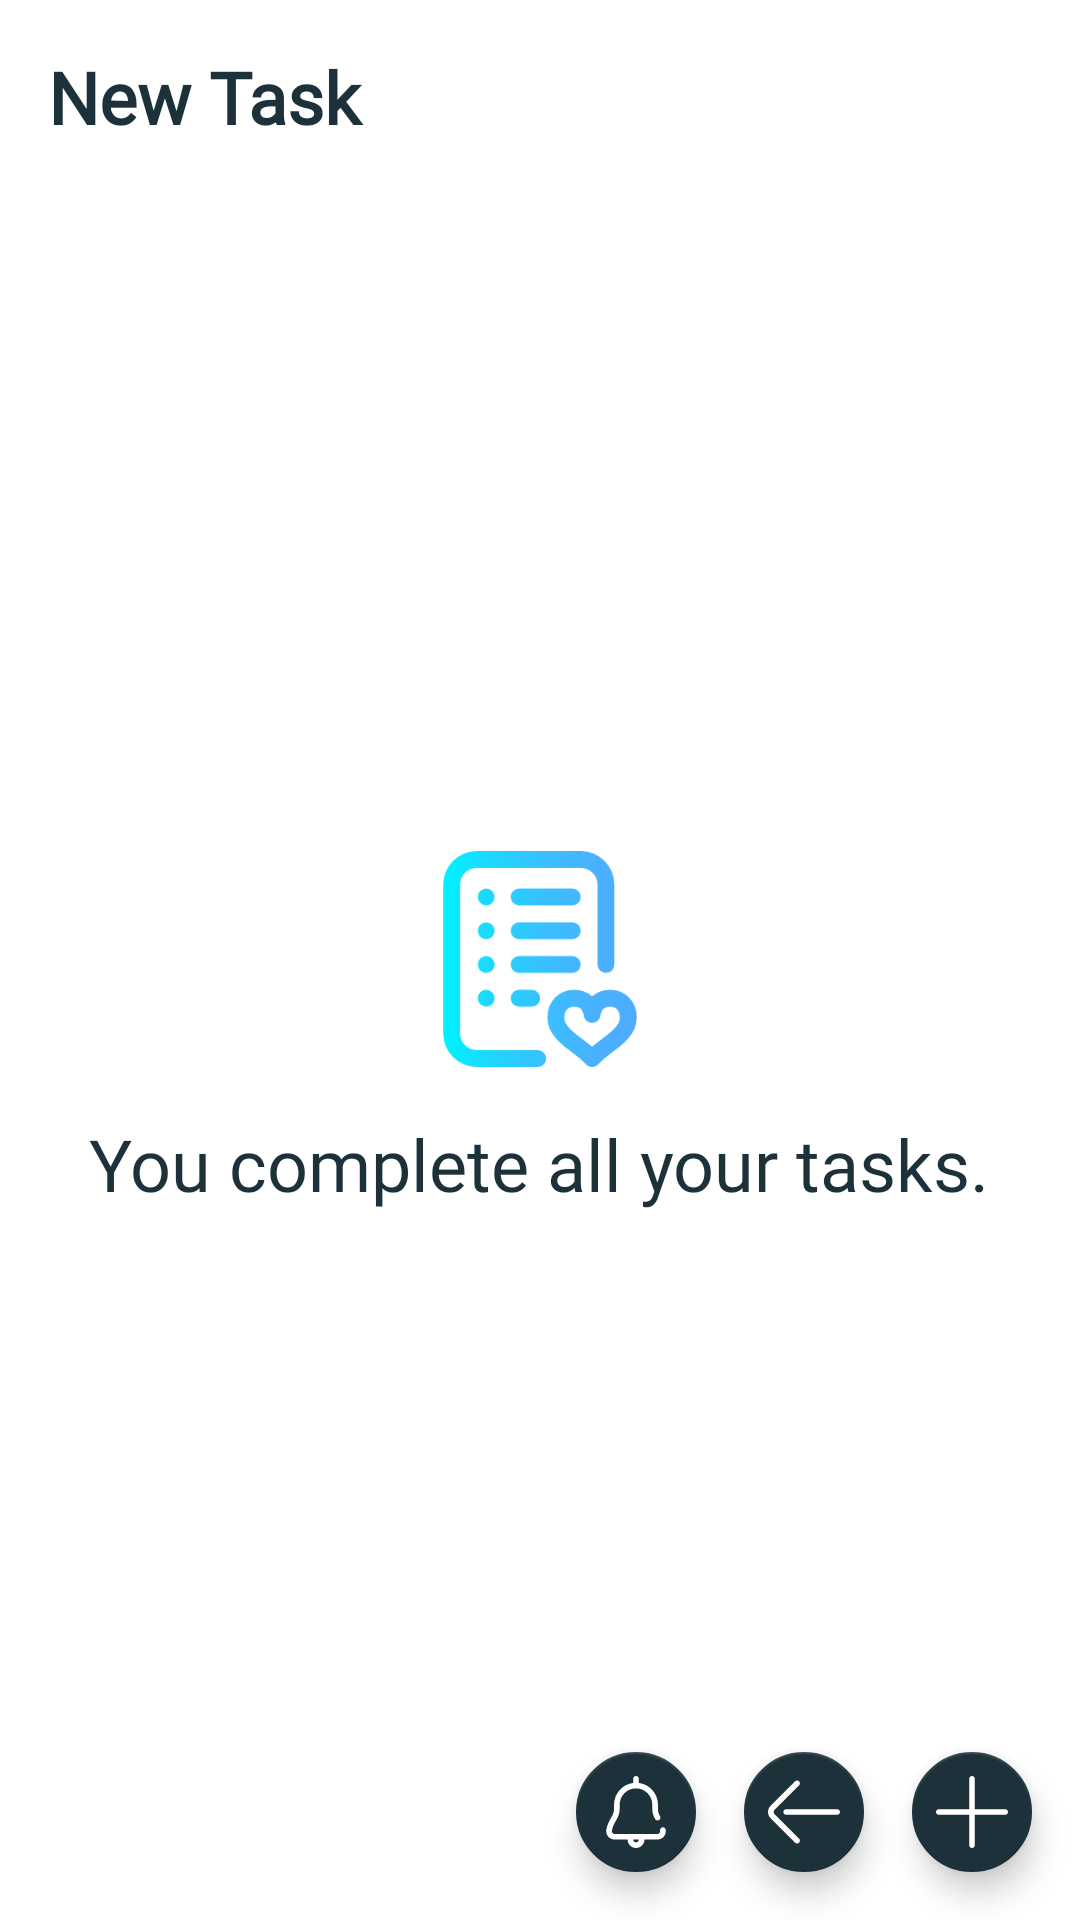

Named icons in this screenshot (1080×1920) and their bounding boxes, {"x1": x1, "y1": y1, "x2": x2, "y2": y2}:
add: {"x1": 912, "y1": 1752, "x2": 1035, "y2": 1884}
alarm: {"x1": 576, "y1": 1752, "x2": 697, "y2": 1884}
arrow back: {"x1": 744, "y1": 1752, "x2": 865, "y2": 1884}
empty wishlist: {"x1": 443, "y1": 851, "x2": 637, "y2": 1067}
